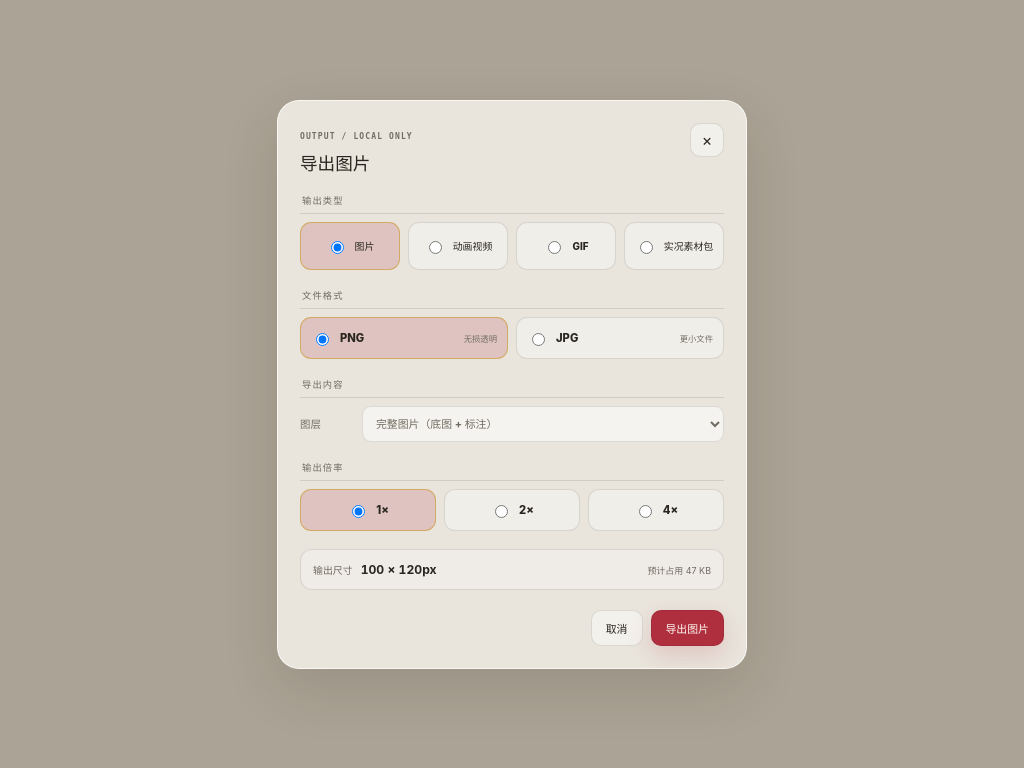
Test: ExportDialog export lifecycle › locks close affordances while export is in flight
The image size is (1024, 768).
Click the button "导出图片" at (687, 628), box [650,610,724,646]
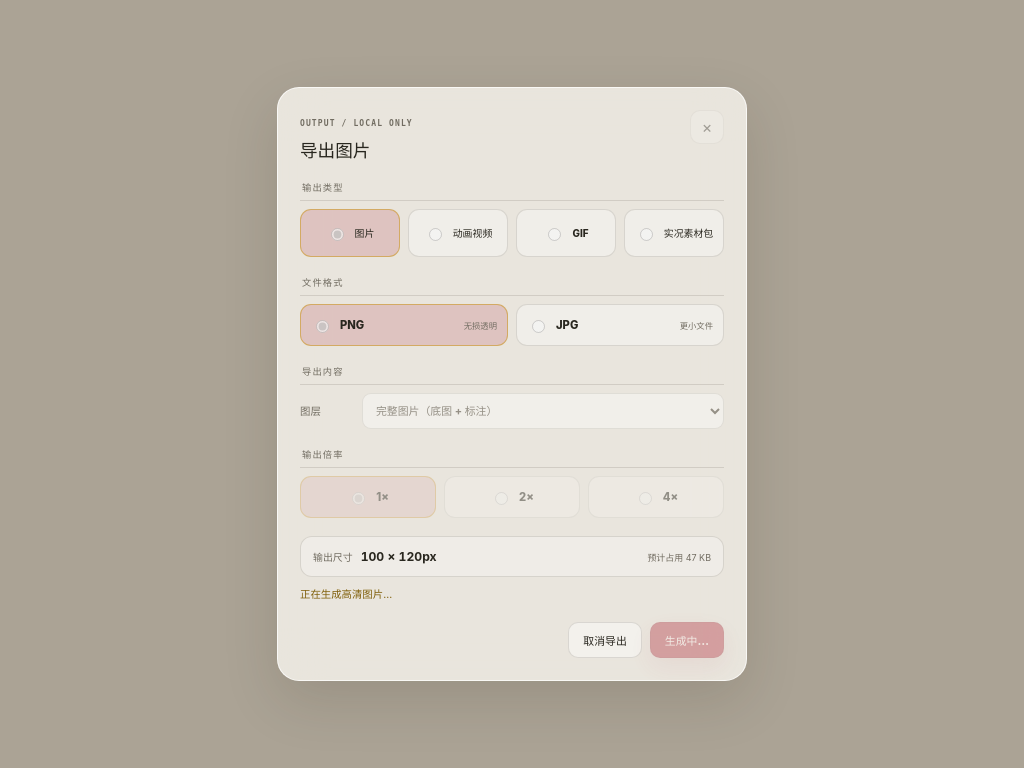
Now the button named "关闭导出设置" is disabled, box [690,110,724,144]
Press the mouse on the element that starts with "OUTPUT / LOCAL ONLY" at (512, 384), box [0,0,1023,767]
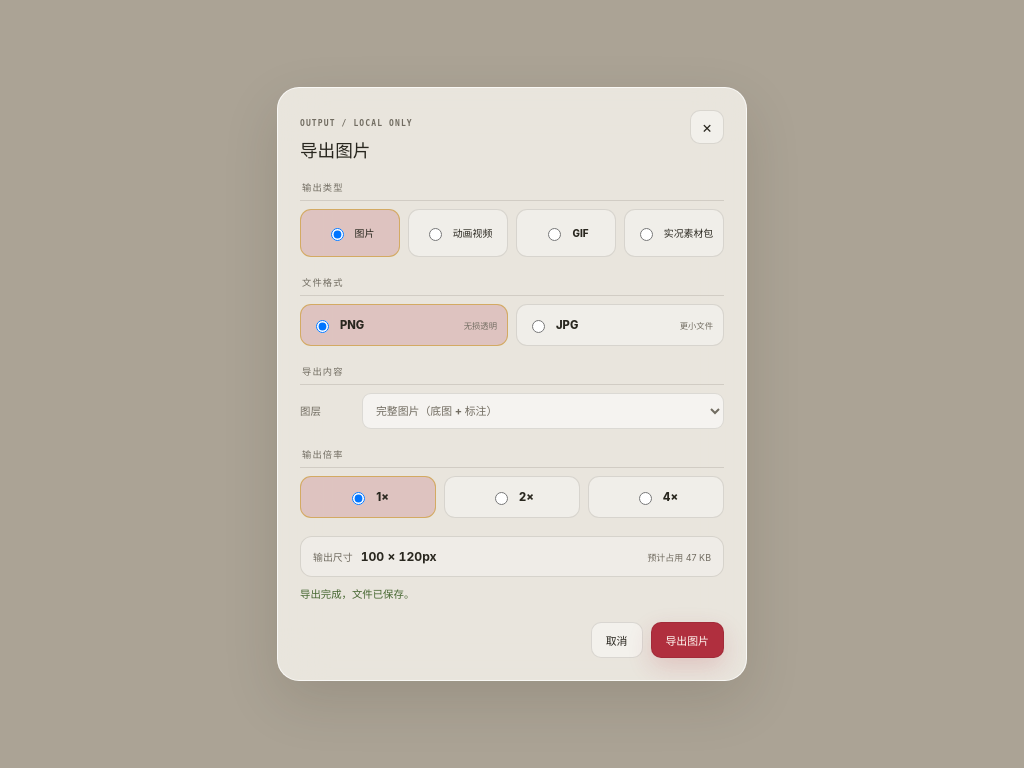
Now the text "导出完成，文件已保存。" is shown, box [300,588,414,601]
